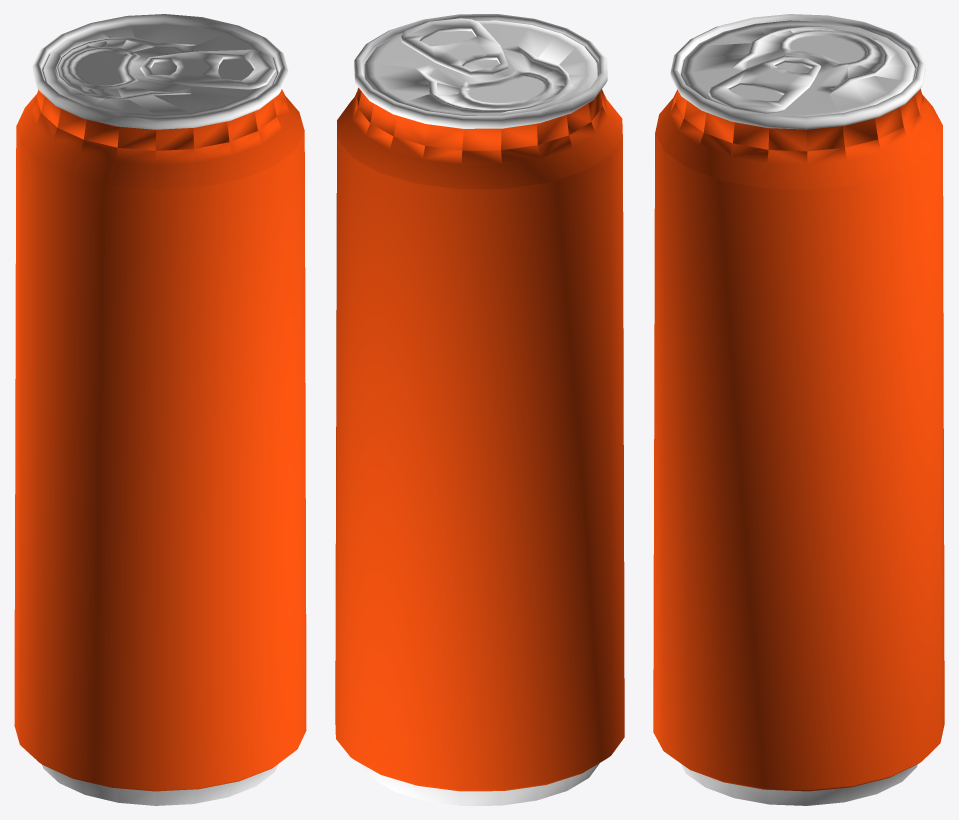
The model's file is Orange Soda Can.fbx.
3 views of the same model, side by side, from view 1: azimuth 30°, elevation 25°; view 2: azimuth 150°, elevation 25°; view 3: azimuth 270°, elevation 25° (orthographic).
Visible parts, largest first — view 1: Node 0; view 2: Node 0; view 3: Node 0.
Boxes of the visible parts, x1,y1,x2,y2 form: Node 0: (14,14,306,805); Node 0: (335,14,624,805); Node 0: (653,14,944,805).
Bounding box in the file's own units: 0.0604 × 0.1584 × 0.0604.
